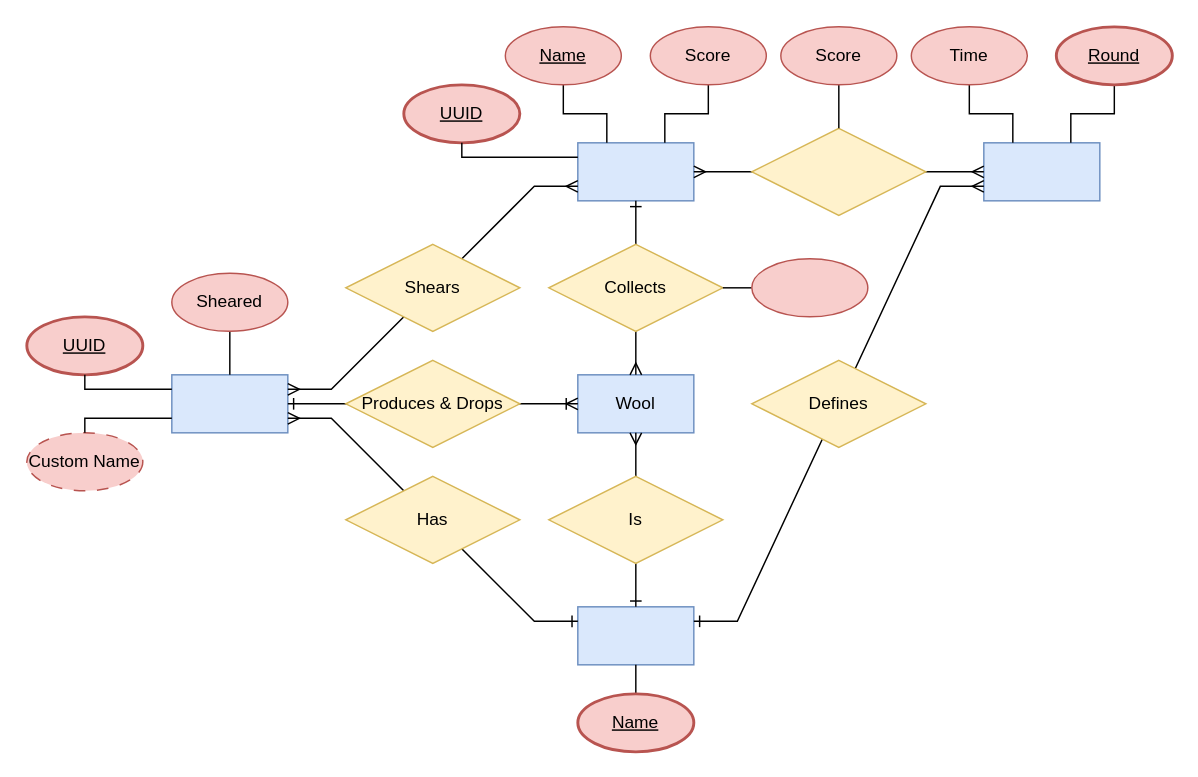
Image size: 1198x777. Some labels were removed from this diagram. Here are the shapes that lost their labels. From the top down, the centre of each, then its label:
At [635,171]: "Player".
At [838,171]: "Receives & Scores from".
At [1041,171]: "Collection Quest".
At [809,287]: "Count".
At [229,403]: "Sheep".
At [635,635]: "Color".
